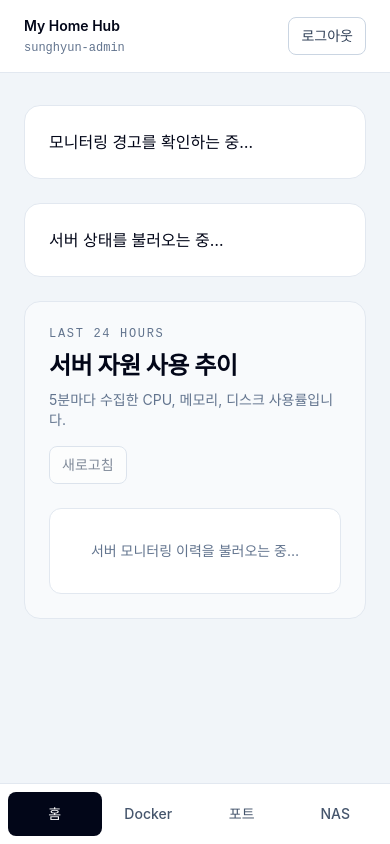
Test: App 인증 흐름 › 로그아웃하면 로그인 화면으로 돌아간다
Click the button "로그아웃" at (327, 36), box 288,17 -> 366,55
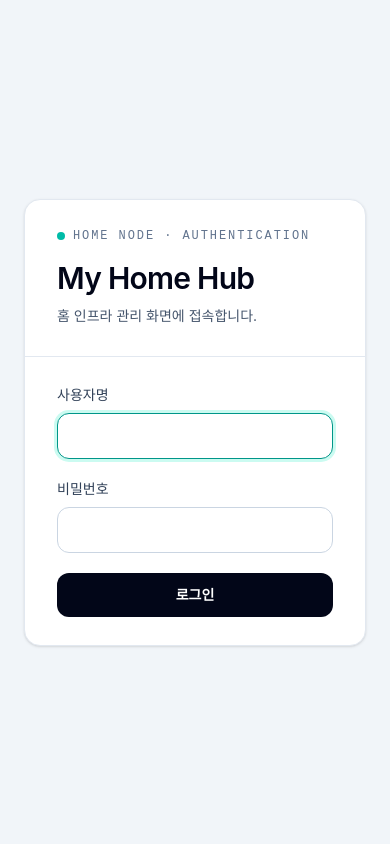
Expected: the field labelled "사용자명" is shown, 57,412 -> 333,458
